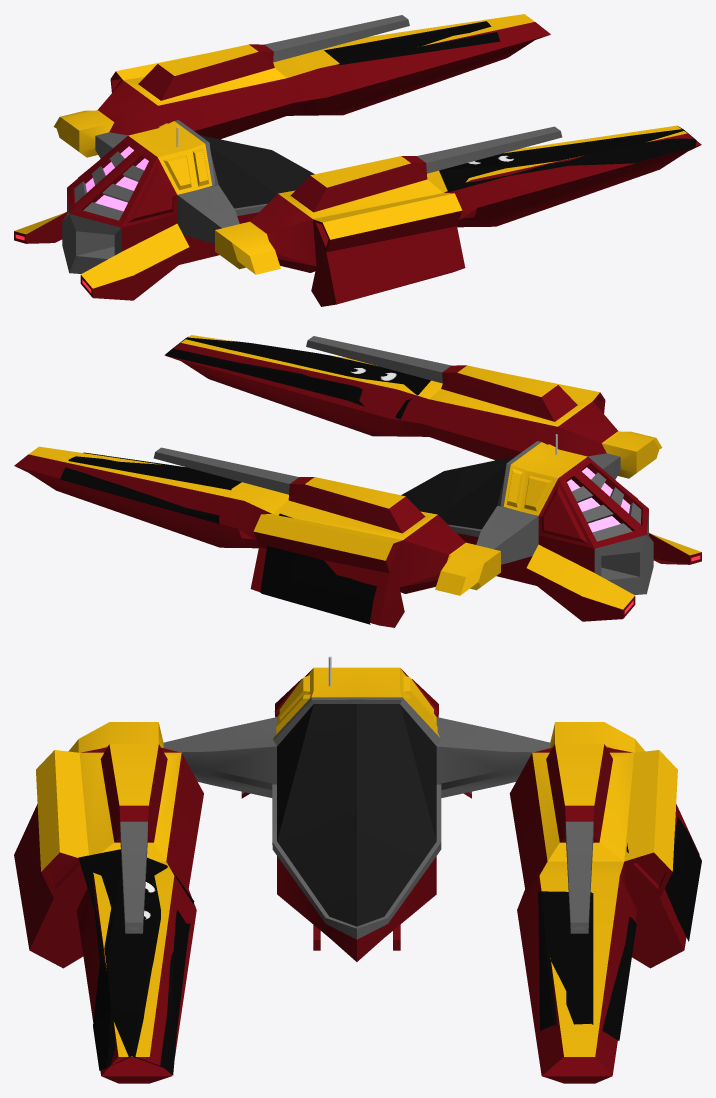
Rendered from RV_BallaShip_001.fbx.
3 renders of one model, top to bottom at view 1: azimuth 30°, elevation 25°; view 2: azimuth 150°, elevation 25°; view 3: azimuth 270°, elevation 25°, orthographic. The views are drawn at different scales.
Parts seen in each view (by area): view 1: Ship; view 2: Ship; view 3: Ship.
Part boxes in pixels (x1,y1,x2,y2): Ship: (14,14,701,306); Ship: (14,335,701,627); Ship: (14,667,701,1083).
Size of the model in its own units: 1187 by 269 by 862.
9 materials, 3 textured.
